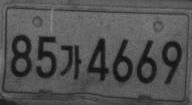4: (86, 37, 109, 81)
5: (35, 35, 57, 79)
6: (111, 39, 133, 83), (136, 40, 157, 84)
8: (9, 34, 33, 77)
9: (160, 39, 183, 85)
가: (59, 43, 82, 80)
